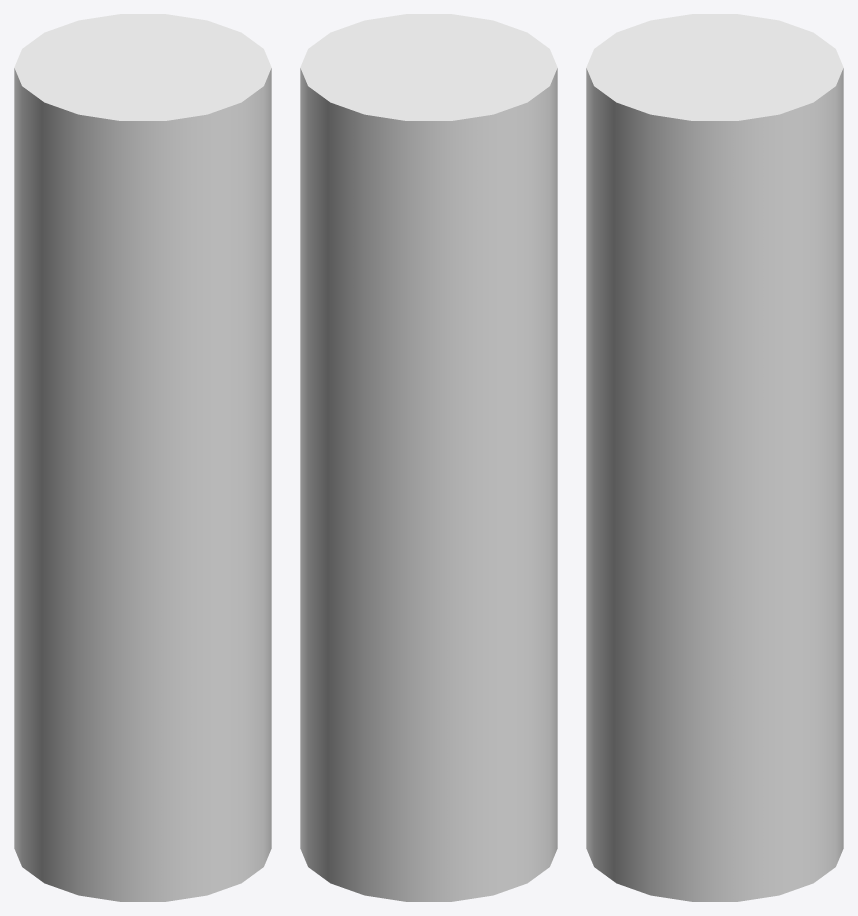
The picture shows the model from 3 angles, left to right: view 1: azimuth 30°, elevation 25°; view 2: azimuth 150°, elevation 25°; view 3: azimuth 270°, elevation 25°; orthographic projection.
Visible parts, largest first — view 1: leg_design; view 2: leg_design; view 3: leg_design.
Boxes of the visible parts, x1=… form: leg_design: x1=14, y1=14, x2=271, y2=901; leg_design: x1=300, y1=14, x2=557, y2=901; leg_design: x1=586, y1=14, x2=843, y2=901.
Bounding box in the file's own units: 0.0309 × 0.105 × 0.0314.
Materials: 1 (1 with a texture image).
